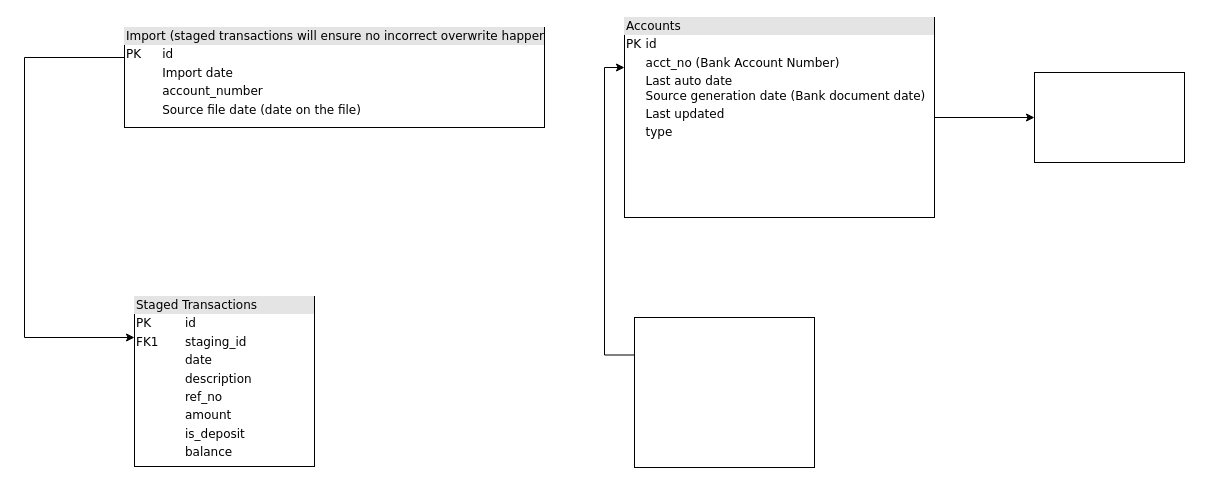
Image size: 1205x485. Some labels were removed from this diagram. Here are the shapes that lost their labels. From the top down, the centre of each, then its label:
At (x=1109, y=117): "Trigger: auto_change_updated_at Auto update last updated when a row is modified".
At (x=724, y=392): "Transactions PK id FK1 acct_id date description ref_no amount balance".
